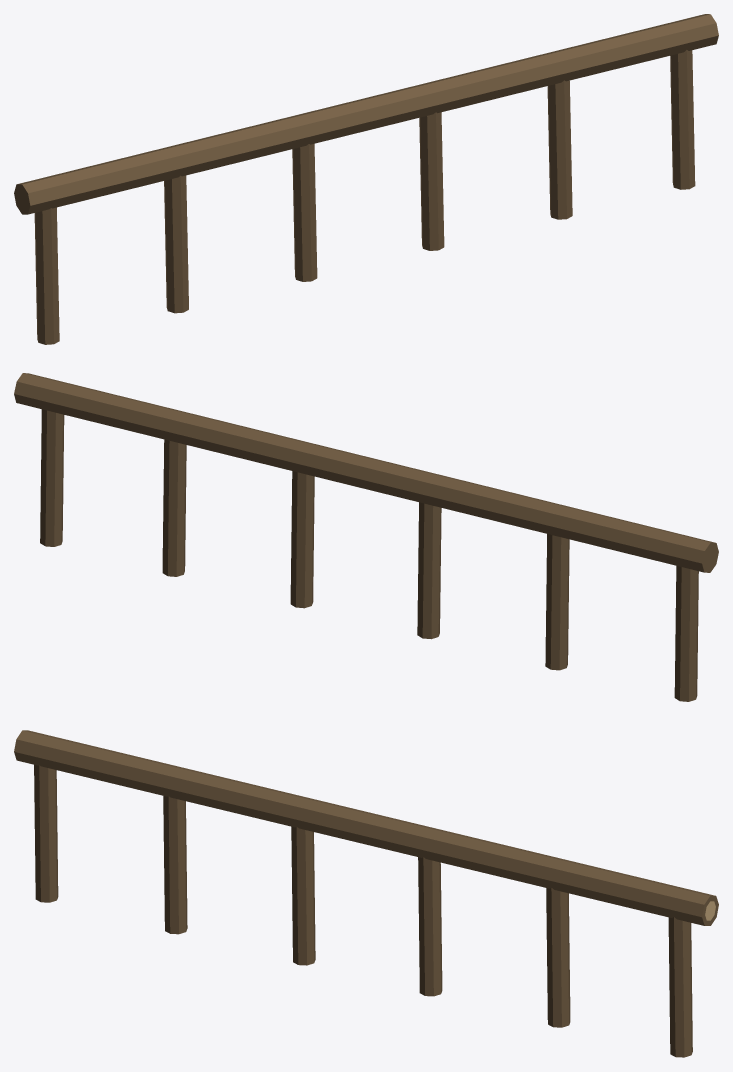
File: rpgpp_ag_wall_platform_01_handrail_01_4m.fbx
The picture shows the model from 3 angles, top to bottom: view 1: azimuth 30°, elevation 25°; view 2: azimuth 150°, elevation 25°; view 3: azimuth 330°, elevation 25°; orthographic projection.
Parts seen in each view (by area): view 1: rpgpp_ag_wall_platform_01_handrail_01_4m; view 2: rpgpp_ag_wall_platform_01_handrail_01_4m; view 3: rpgpp_ag_wall_platform_01_handrail_01_4m.
Boxes of the visible parts, left/top/right/bottom form: rpgpp_ag_wall_platform_01_handrail_01_4m: left=14, top=14, right=718, bottom=344; rpgpp_ag_wall_platform_01_handrail_01_4m: left=14, top=373, right=718, bottom=701; rpgpp_ag_wall_platform_01_handrail_01_4m: left=14, top=730, right=718, bottom=1057.
Bounding box in the file's own units: 3.9 × 0.8854 × 0.1661.
